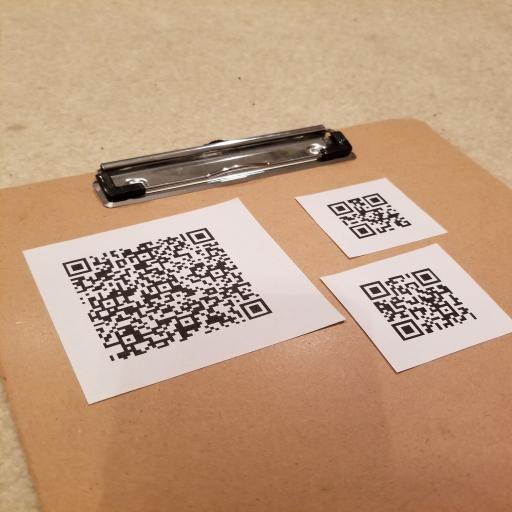qr_code: (62, 227, 272, 363), (358, 268, 478, 342), (327, 193, 412, 239)
